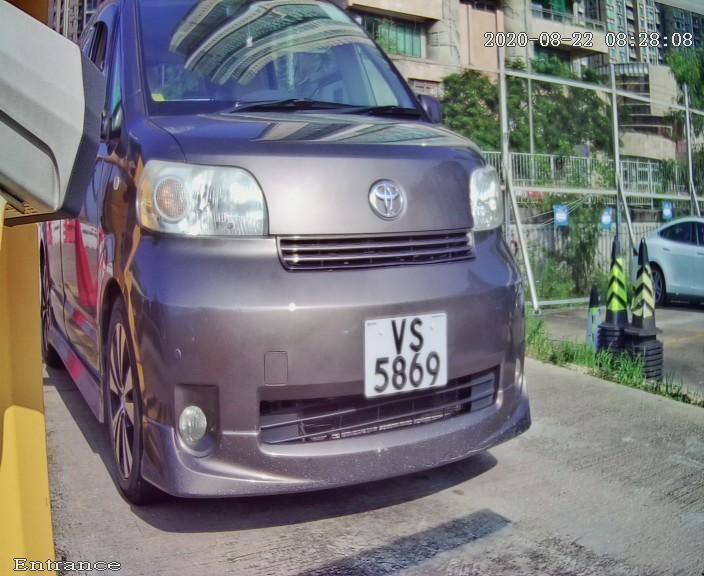License Plate: (356, 301, 459, 412)
